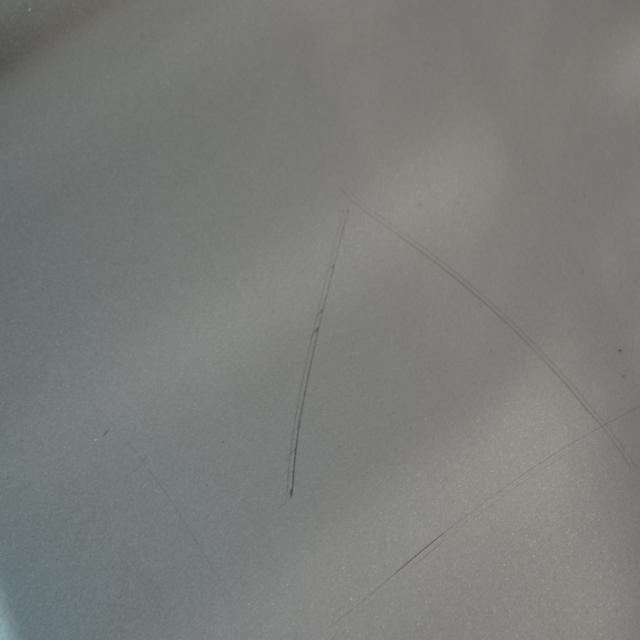dirt: (615, 342, 628, 355), (621, 369, 628, 383)
scratch: (335, 171, 640, 482), (332, 403, 640, 634), (98, 405, 231, 599), (277, 198, 352, 504)
